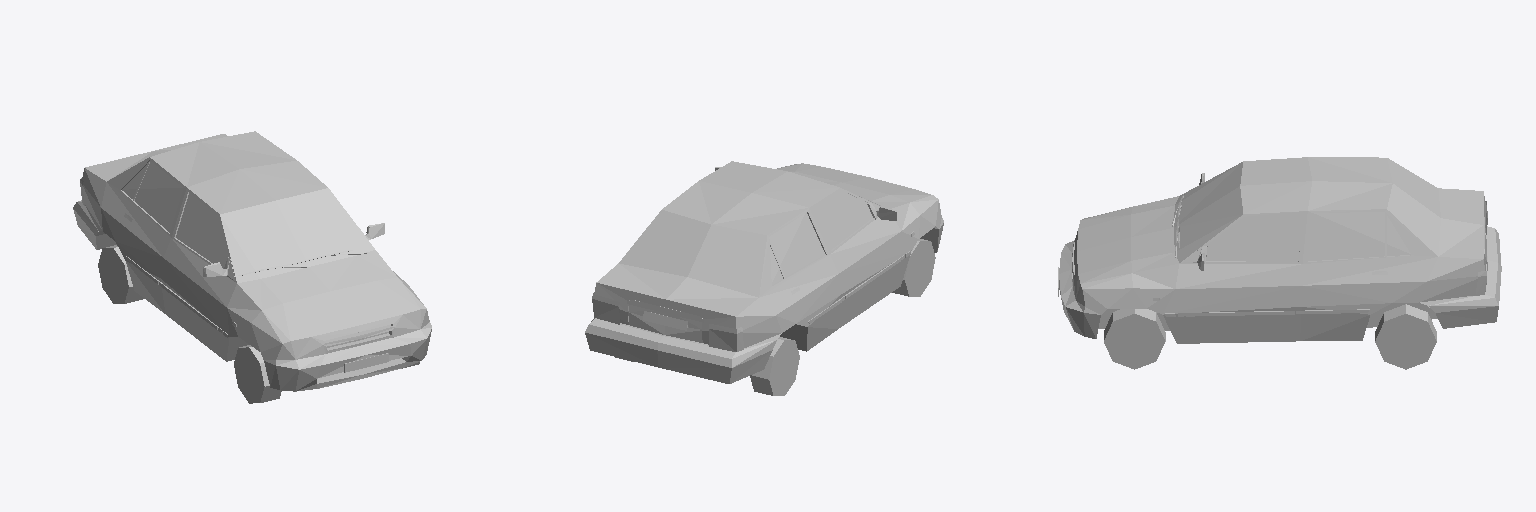
File: carro.obj
The picture shows the model from 3 angles: view 1: azimuth 30°, elevation 25°; view 2: azimuth 150°, elevation 25°; view 3: azimuth 270°, elevation 25°; orthographic projection.
Bounding box in the file's own units: 176 × 138 × 371.